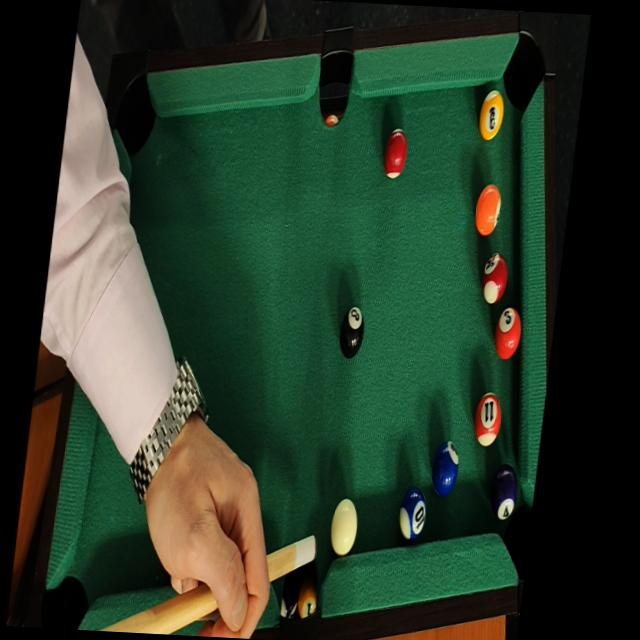cue ball: (325, 491, 362, 564)
other: (394, 480, 432, 552), (484, 460, 521, 530), (425, 432, 464, 496), (469, 178, 506, 240), (492, 298, 526, 364), (334, 300, 370, 362), (474, 85, 507, 146), (471, 388, 504, 447), (478, 252, 510, 310), (379, 121, 412, 176)
